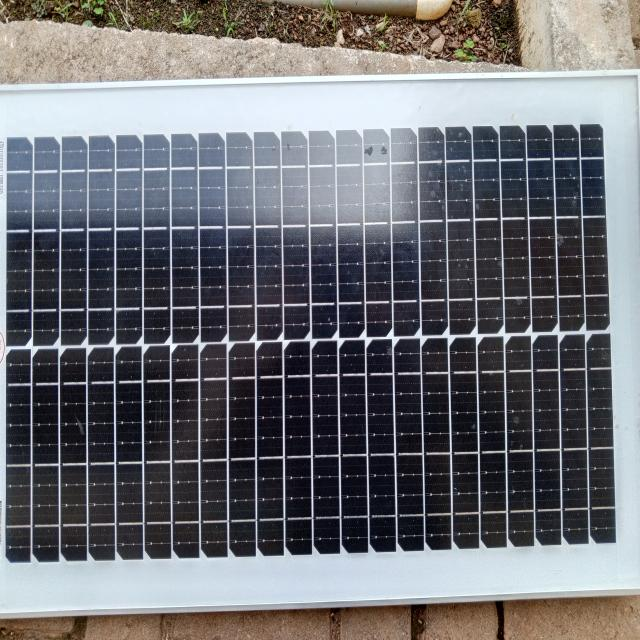Clean: (4, 105, 635, 571)
